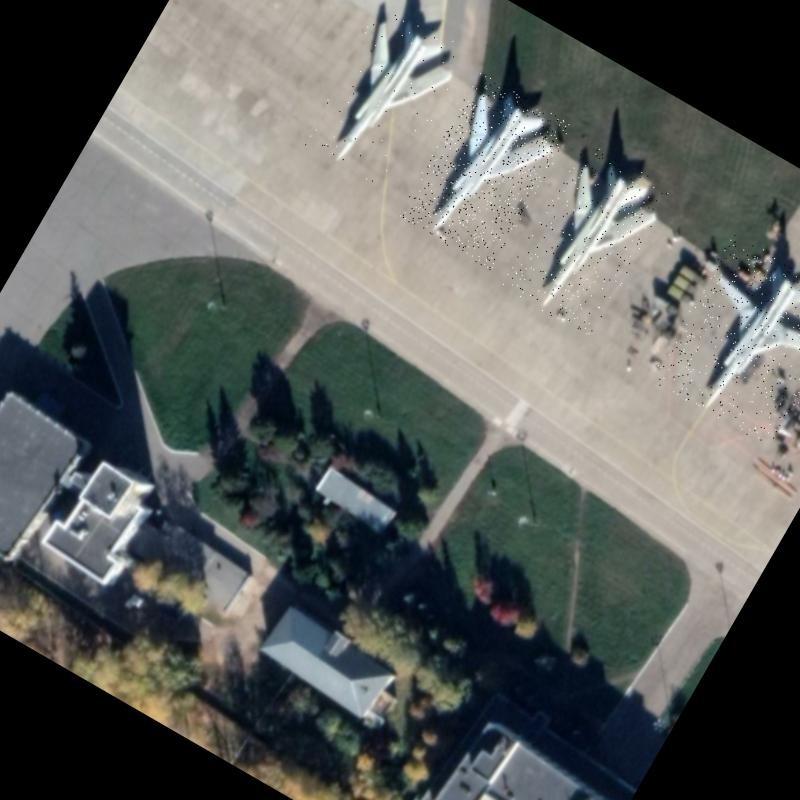A12: (396, 72, 574, 271), (500, 138, 676, 339), (298, 0, 472, 198), (648, 232, 800, 450)
